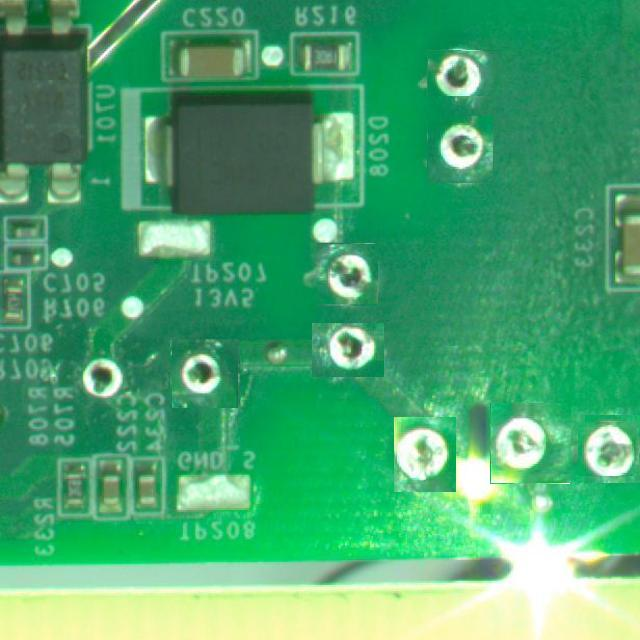lack_of_part: (490, 403, 571, 484), (393, 417, 456, 492), (171, 339, 239, 407), (427, 117, 494, 183), (312, 323, 384, 377), (316, 244, 378, 305), (581, 418, 640, 479), (427, 50, 502, 96), (78, 348, 132, 408)
